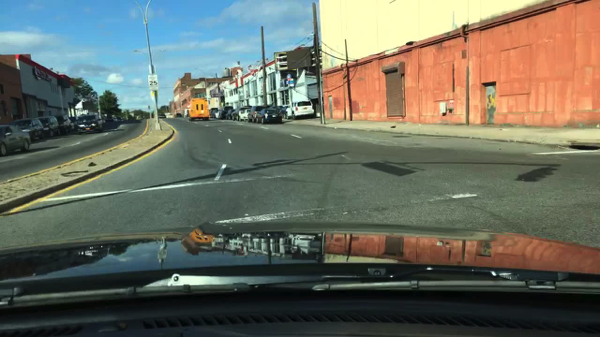car: (0, 125, 32, 155), (12, 119, 44, 141), (285, 101, 315, 120), (76, 115, 103, 135), (38, 116, 61, 137), (188, 100, 209, 121), (255, 109, 283, 124), (56, 115, 72, 133), (249, 105, 264, 122), (235, 106, 250, 121), (220, 106, 233, 119), (240, 110, 251, 122), (279, 105, 287, 119), (230, 109, 240, 120), (69, 117, 79, 128), (226, 109, 235, 121), (208, 108, 217, 119), (252, 112, 261, 123), (211, 110, 220, 119), (99, 114, 106, 125), (125, 115, 134, 123), (216, 110, 222, 119), (174, 112, 183, 118), (135, 115, 143, 121), (158, 113, 165, 119), (184, 110, 189, 118), (112, 117, 118, 123), (268, 105, 275, 110), (277, 105, 282, 112), (116, 117, 122, 122), (134, 114, 139, 118), (121, 117, 125, 122)
traffic sign: (147, 75, 158, 90), (148, 65, 155, 75), (284, 79, 294, 86), (286, 74, 291, 80)
